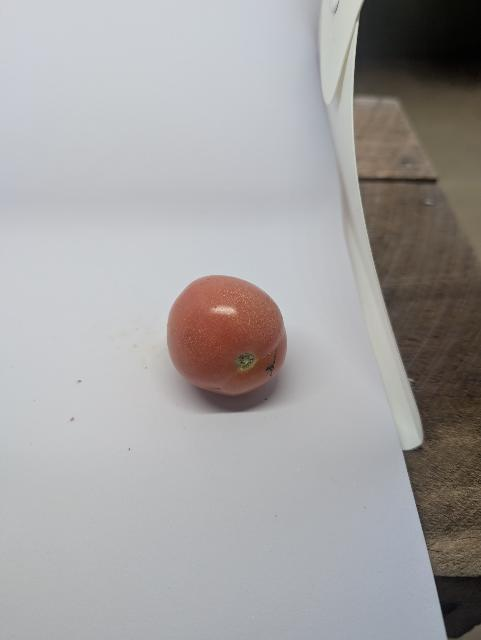red: (166, 272, 290, 399)
